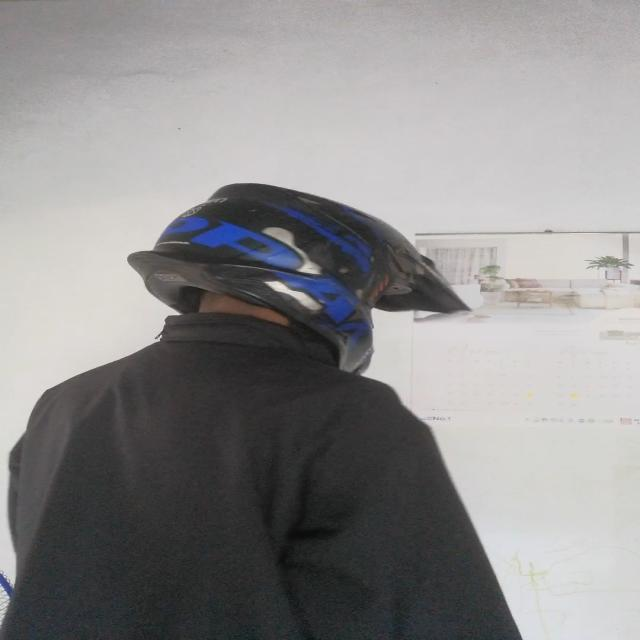Helmet_Wearer: (106, 174, 490, 401)
Jacket_Wearer: (15, 278, 524, 640)
Person: (22, 178, 520, 640)
